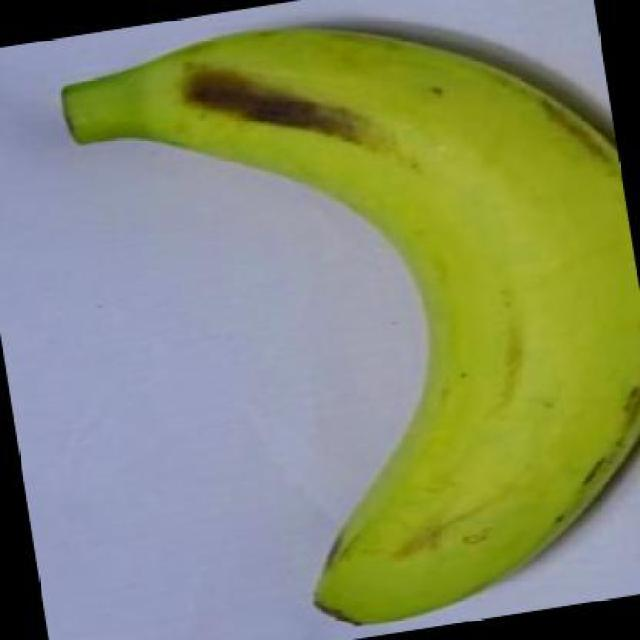unripe: (66, 20, 640, 639)
